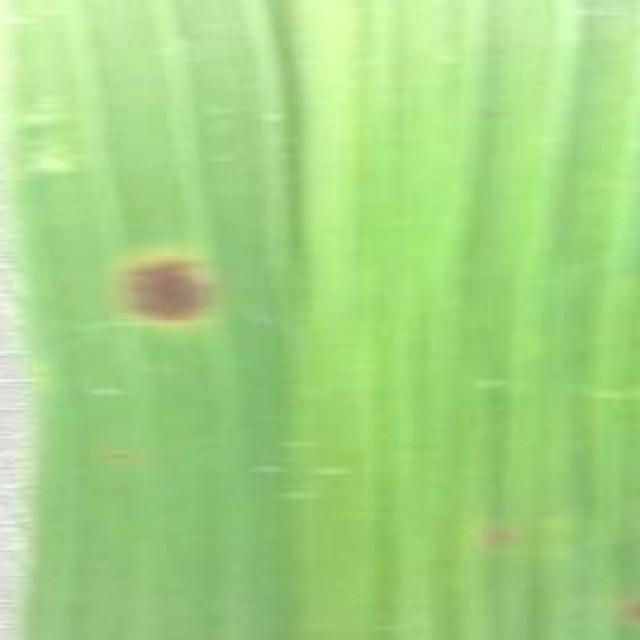Brown_Spot: (88, 222, 240, 348), (466, 514, 526, 560), (621, 576, 640, 636)
